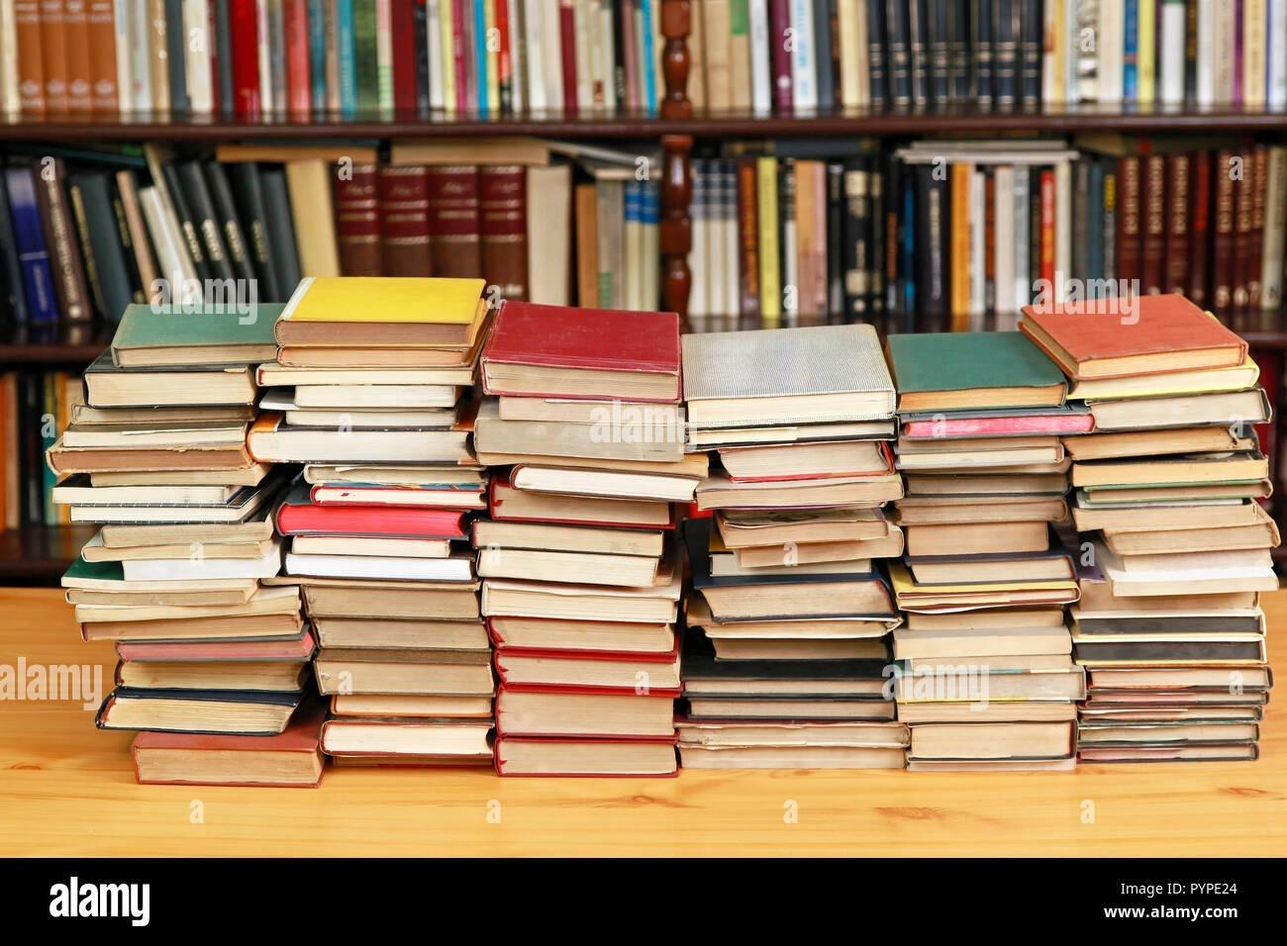book: (67, 170, 136, 322), (31, 157, 91, 323), (908, 160, 942, 318), (840, 160, 873, 316), (1229, 143, 1260, 308), (1207, 147, 1238, 302), (0, 168, 30, 325), (1257, 147, 1286, 309), (1163, 151, 1191, 295), (755, 158, 780, 318), (1185, 152, 1212, 299), (699, 1, 732, 114), (181, 2, 213, 117), (17, 375, 42, 522), (1115, 154, 1141, 293), (736, 159, 759, 315), (39, 376, 61, 522), (389, 2, 417, 116), (284, 2, 311, 119), (0, 380, 18, 525), (1037, 170, 1055, 306)
